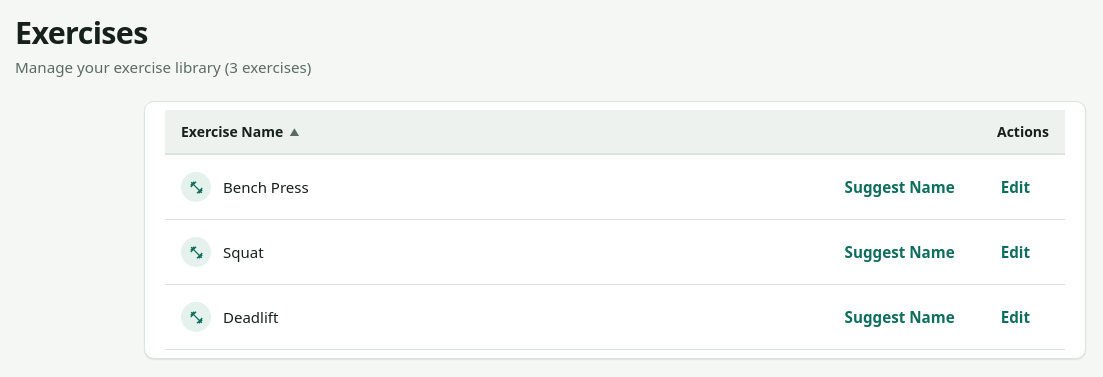
Test: ExerciseListPage - Table Layout › Edit Functionality › allows editing exercise name inline
Expected: the text "Bench Press" is shown, [181,172,309,202]
Note: Click edit on first exercise
What coordinates should you click on to do the following:
click the button named "edit bench press"
I would click on:
 (1015, 187)
Its box is [982,167,1049,207].
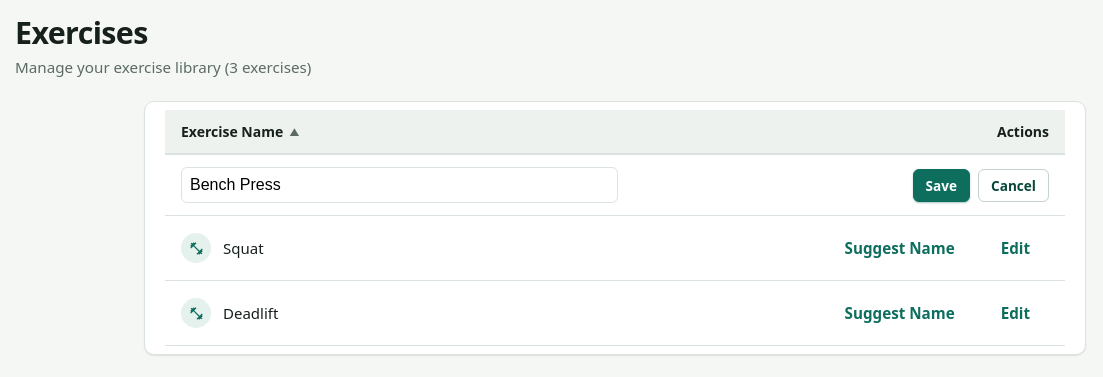
Result: the field showing "Bench Press" is shown at [181,167,618,203]
Result: the button "Save" is shown at [912,168,970,202]
Result: the button "Cancel" is shown at [978,168,1049,202]
